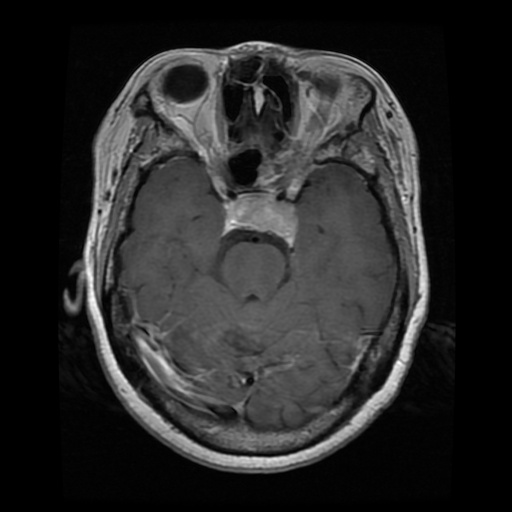pituitary: (225, 192, 297, 238)
